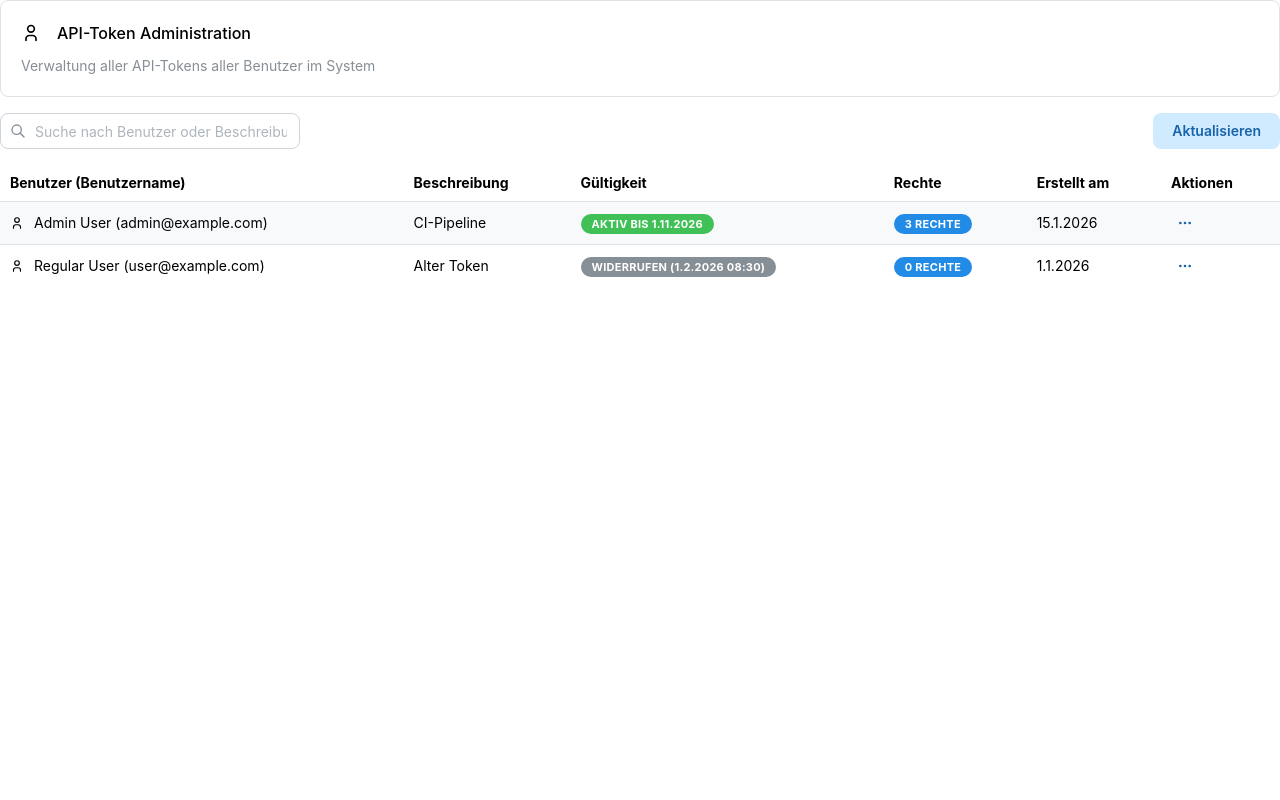
Test case: ApiTokenAdminList › löscht einen Token nach Bestätigung und lädt die Liste neu
The image size is (1280, 800).
Check: the text "CI-Pipeline" is shown, box x1=404 y1=201 x2=571 y2=244
Click the button without text in the row of "Admin User" at (1185,223), box x1=1171 y1=209 x2=1199 y2=237
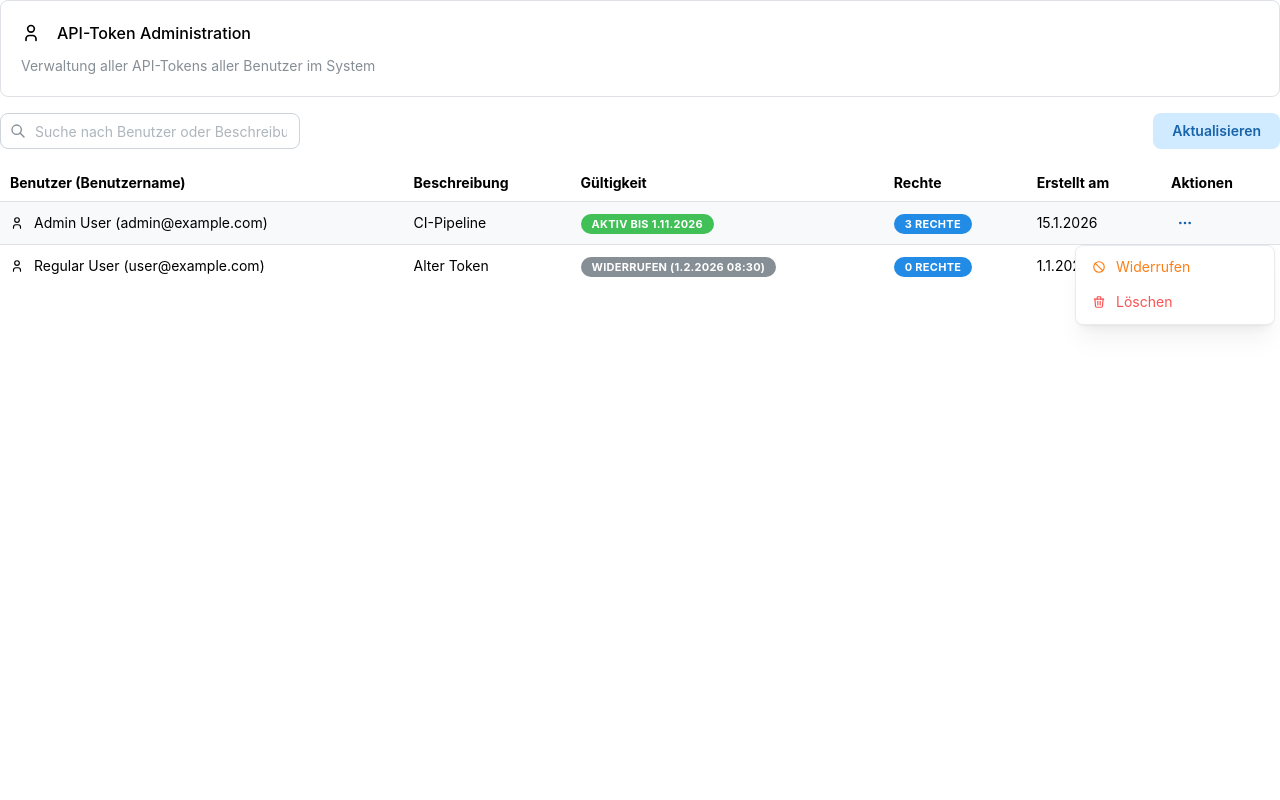
Click the menu item "Löschen" at (1175,302), box x1=1080 y1=285 x2=1270 y2=320
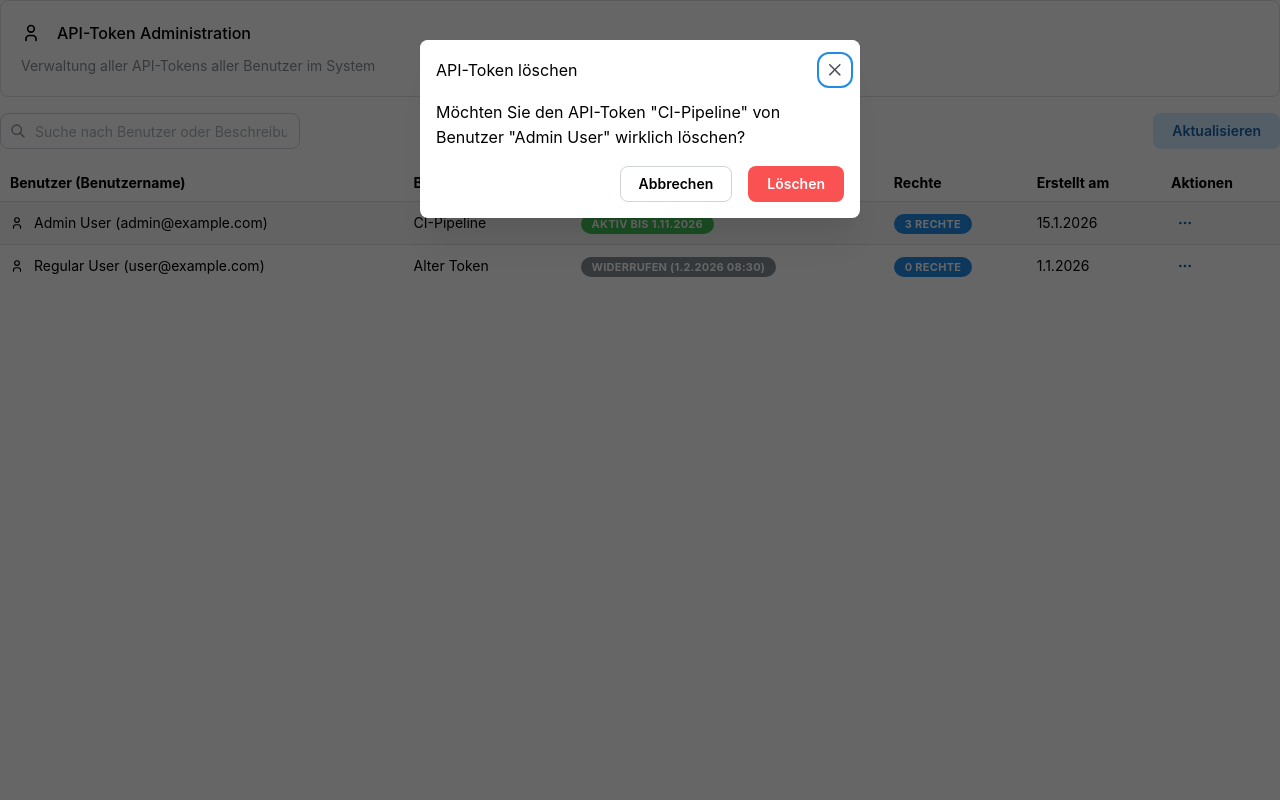
Click the button "Löschen" at (796,184), box x1=748 y1=166 x2=844 y2=202
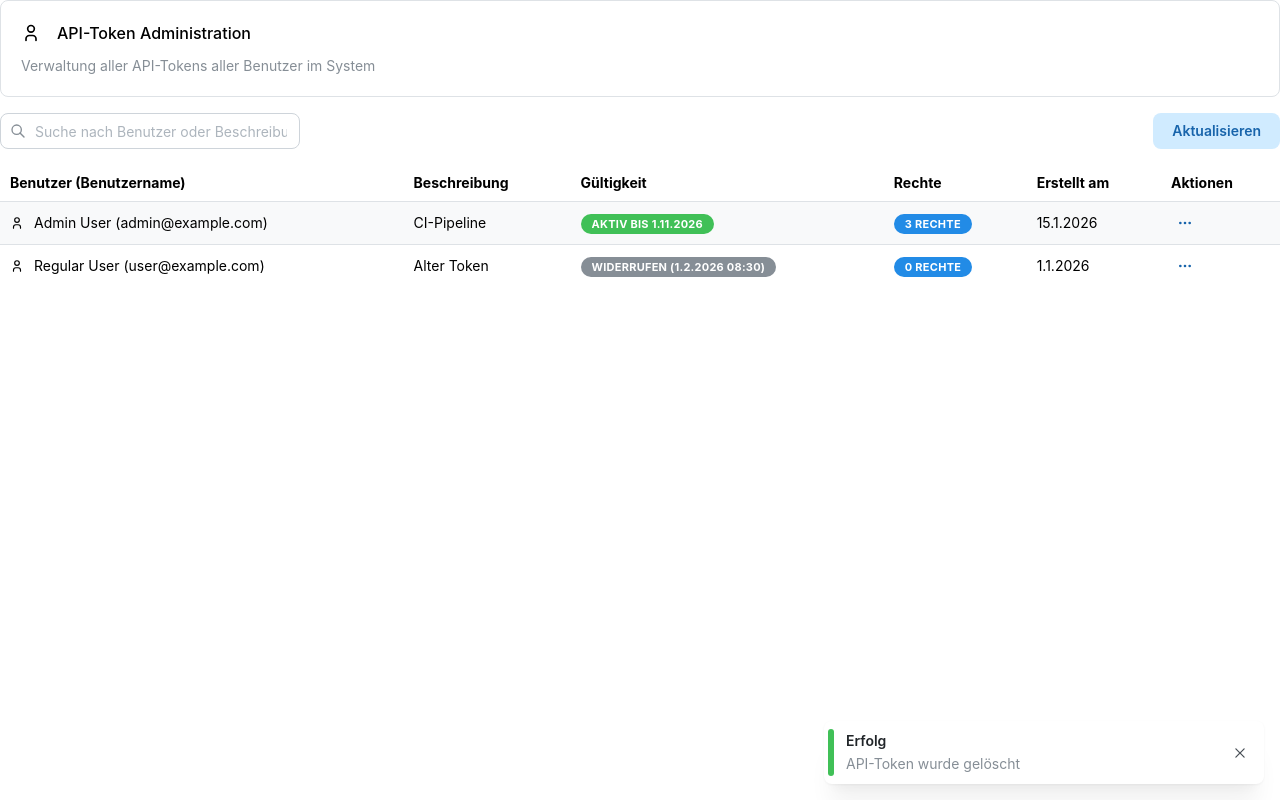
Check: the text "API-Token wurde gelöscht" is shown, box x1=846 y1=755 x2=1020 y2=772
